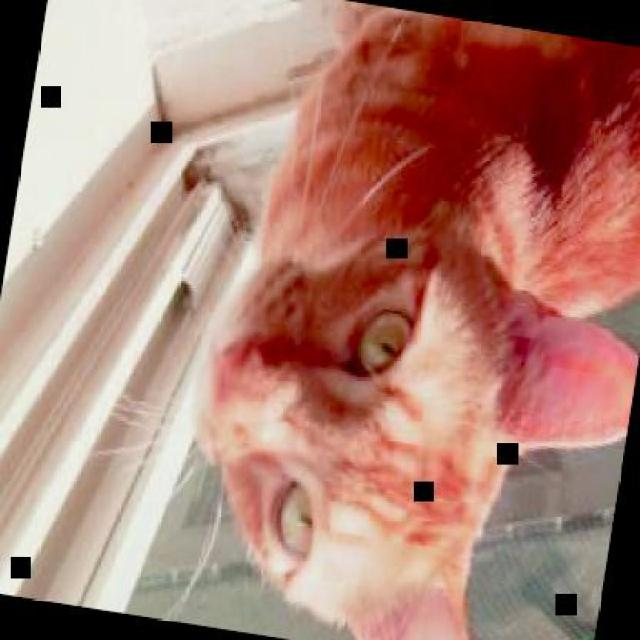cat: (152, 0, 638, 638)
